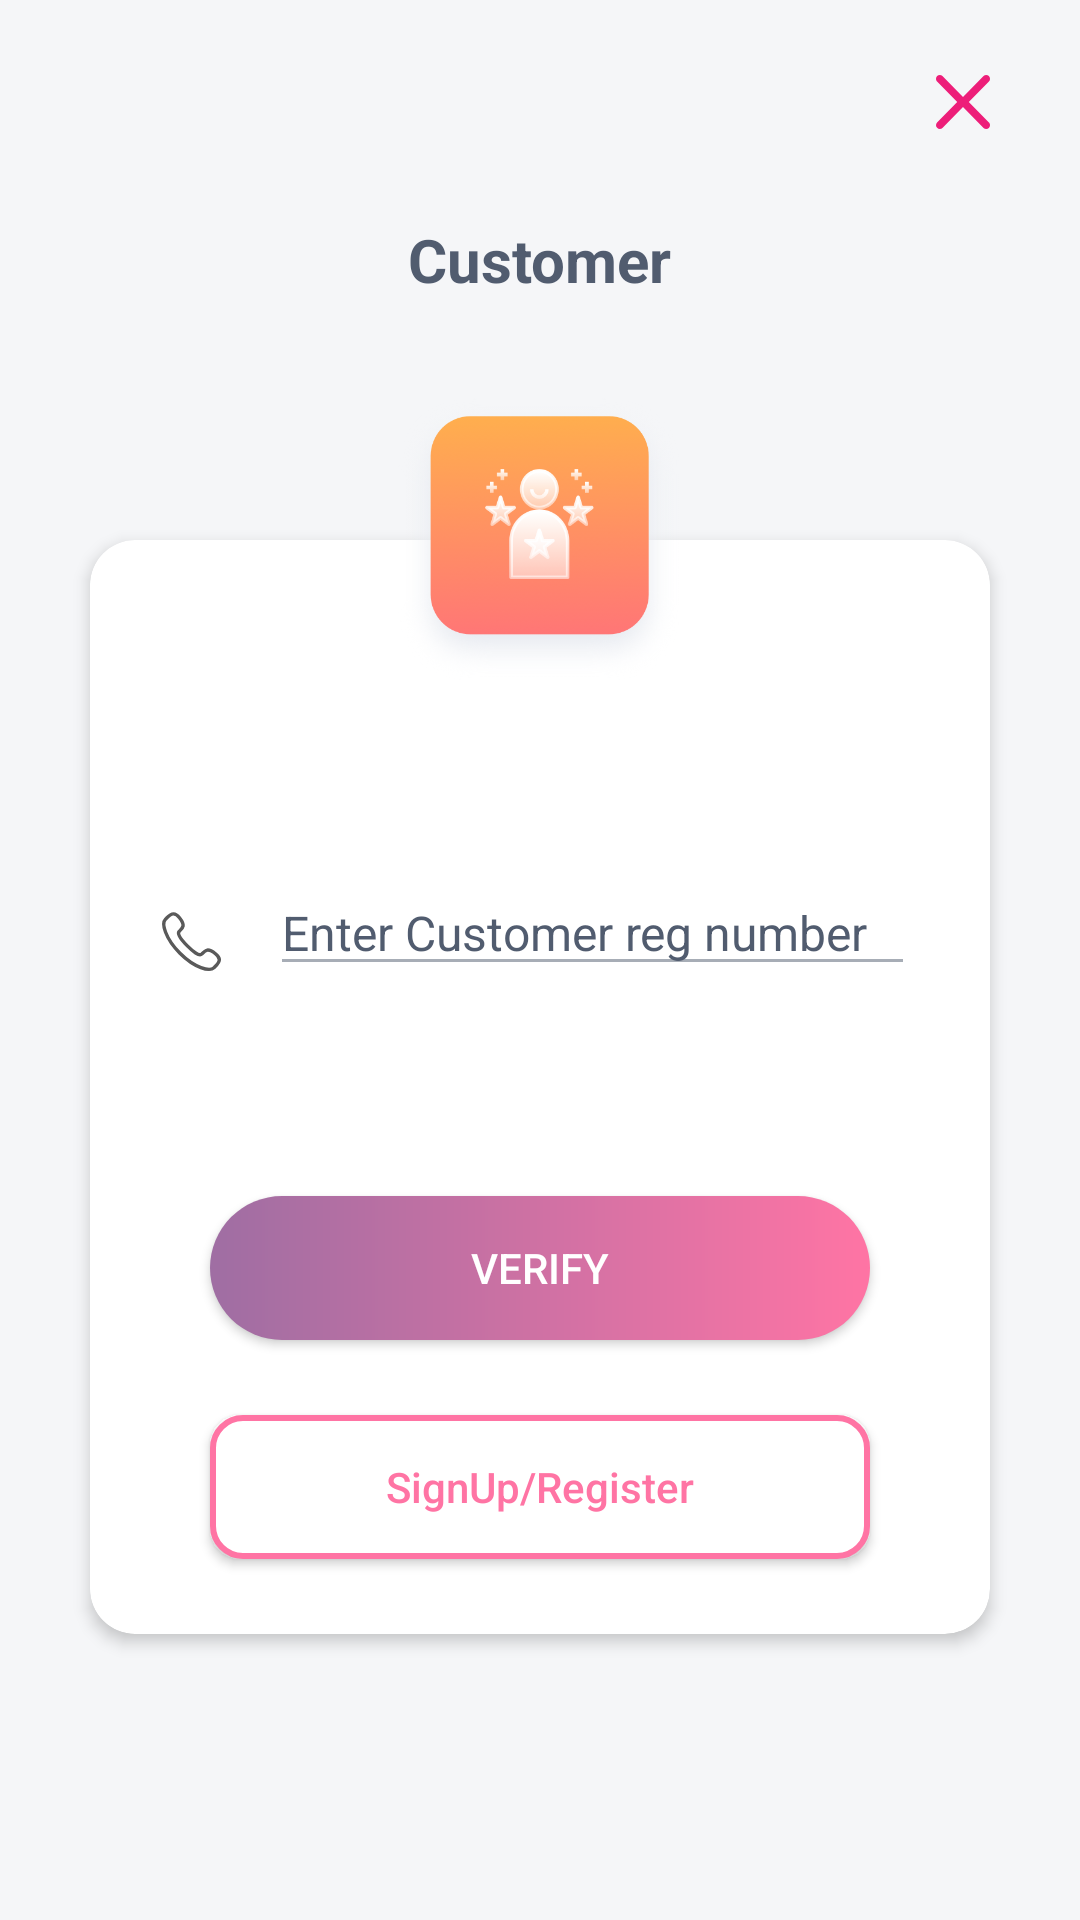

Icon bounding boxes for this 1080px×1920px phone screenshot, format (x1, y1, x2, y2):
cal: (162, 912, 221, 971)
close: (936, 75, 990, 129)
